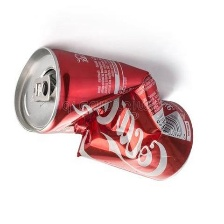can: (10, 43, 198, 185)
